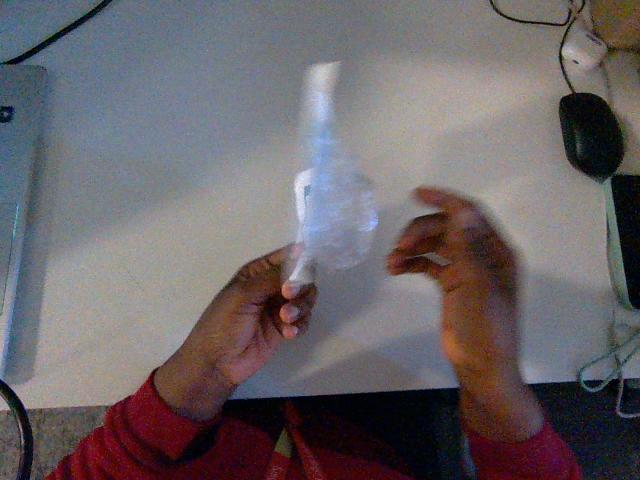gallipot: (289, 62, 377, 282)
